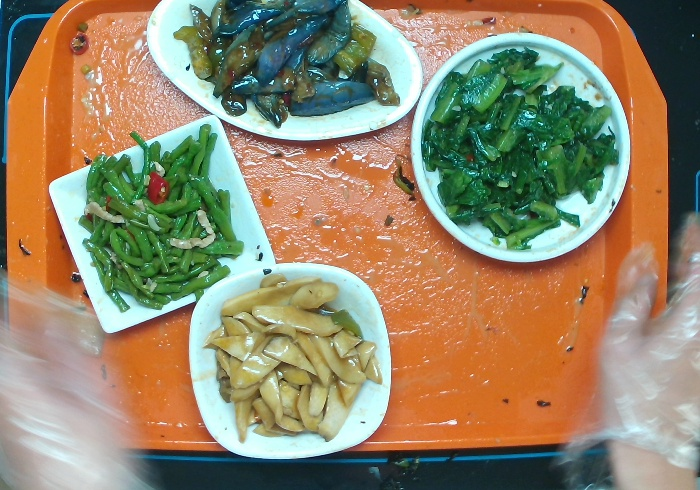HZYJPL-Si_Fang_Die: (46, 117, 276, 335)
HZYJPL-Si_Fang_Yuan_Die: (185, 263, 392, 462)
HZYJPL-Xiao_Yu_Die: (141, 3, 422, 144)
HZYJPL-Xiao_Yuan_Die: (412, 30, 630, 268)
